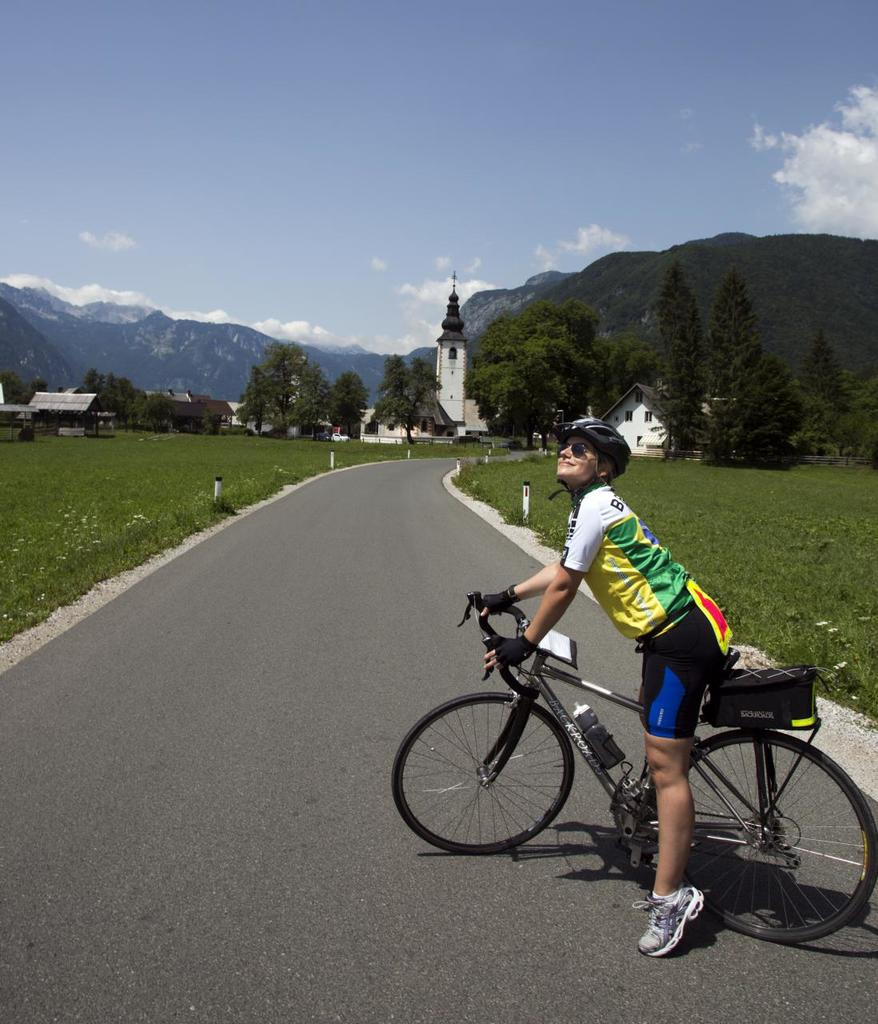Bicycle: (379, 592, 878, 911)
